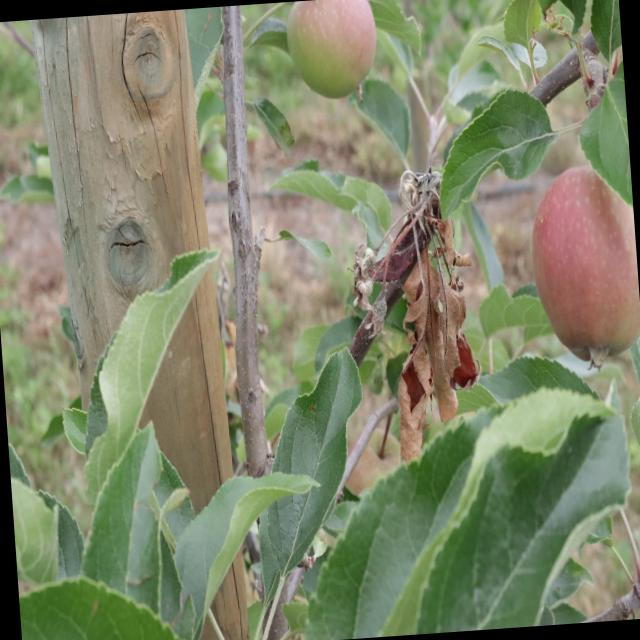-FireBlight-: (358, 153, 490, 440)
